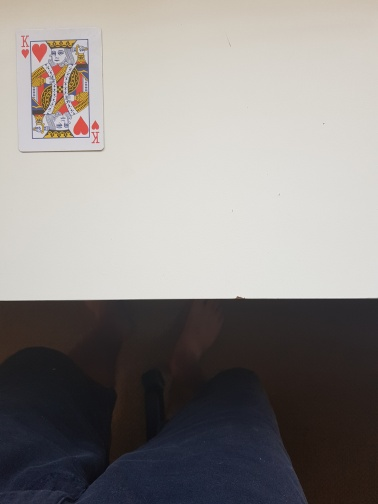king: (15, 26, 105, 154)
